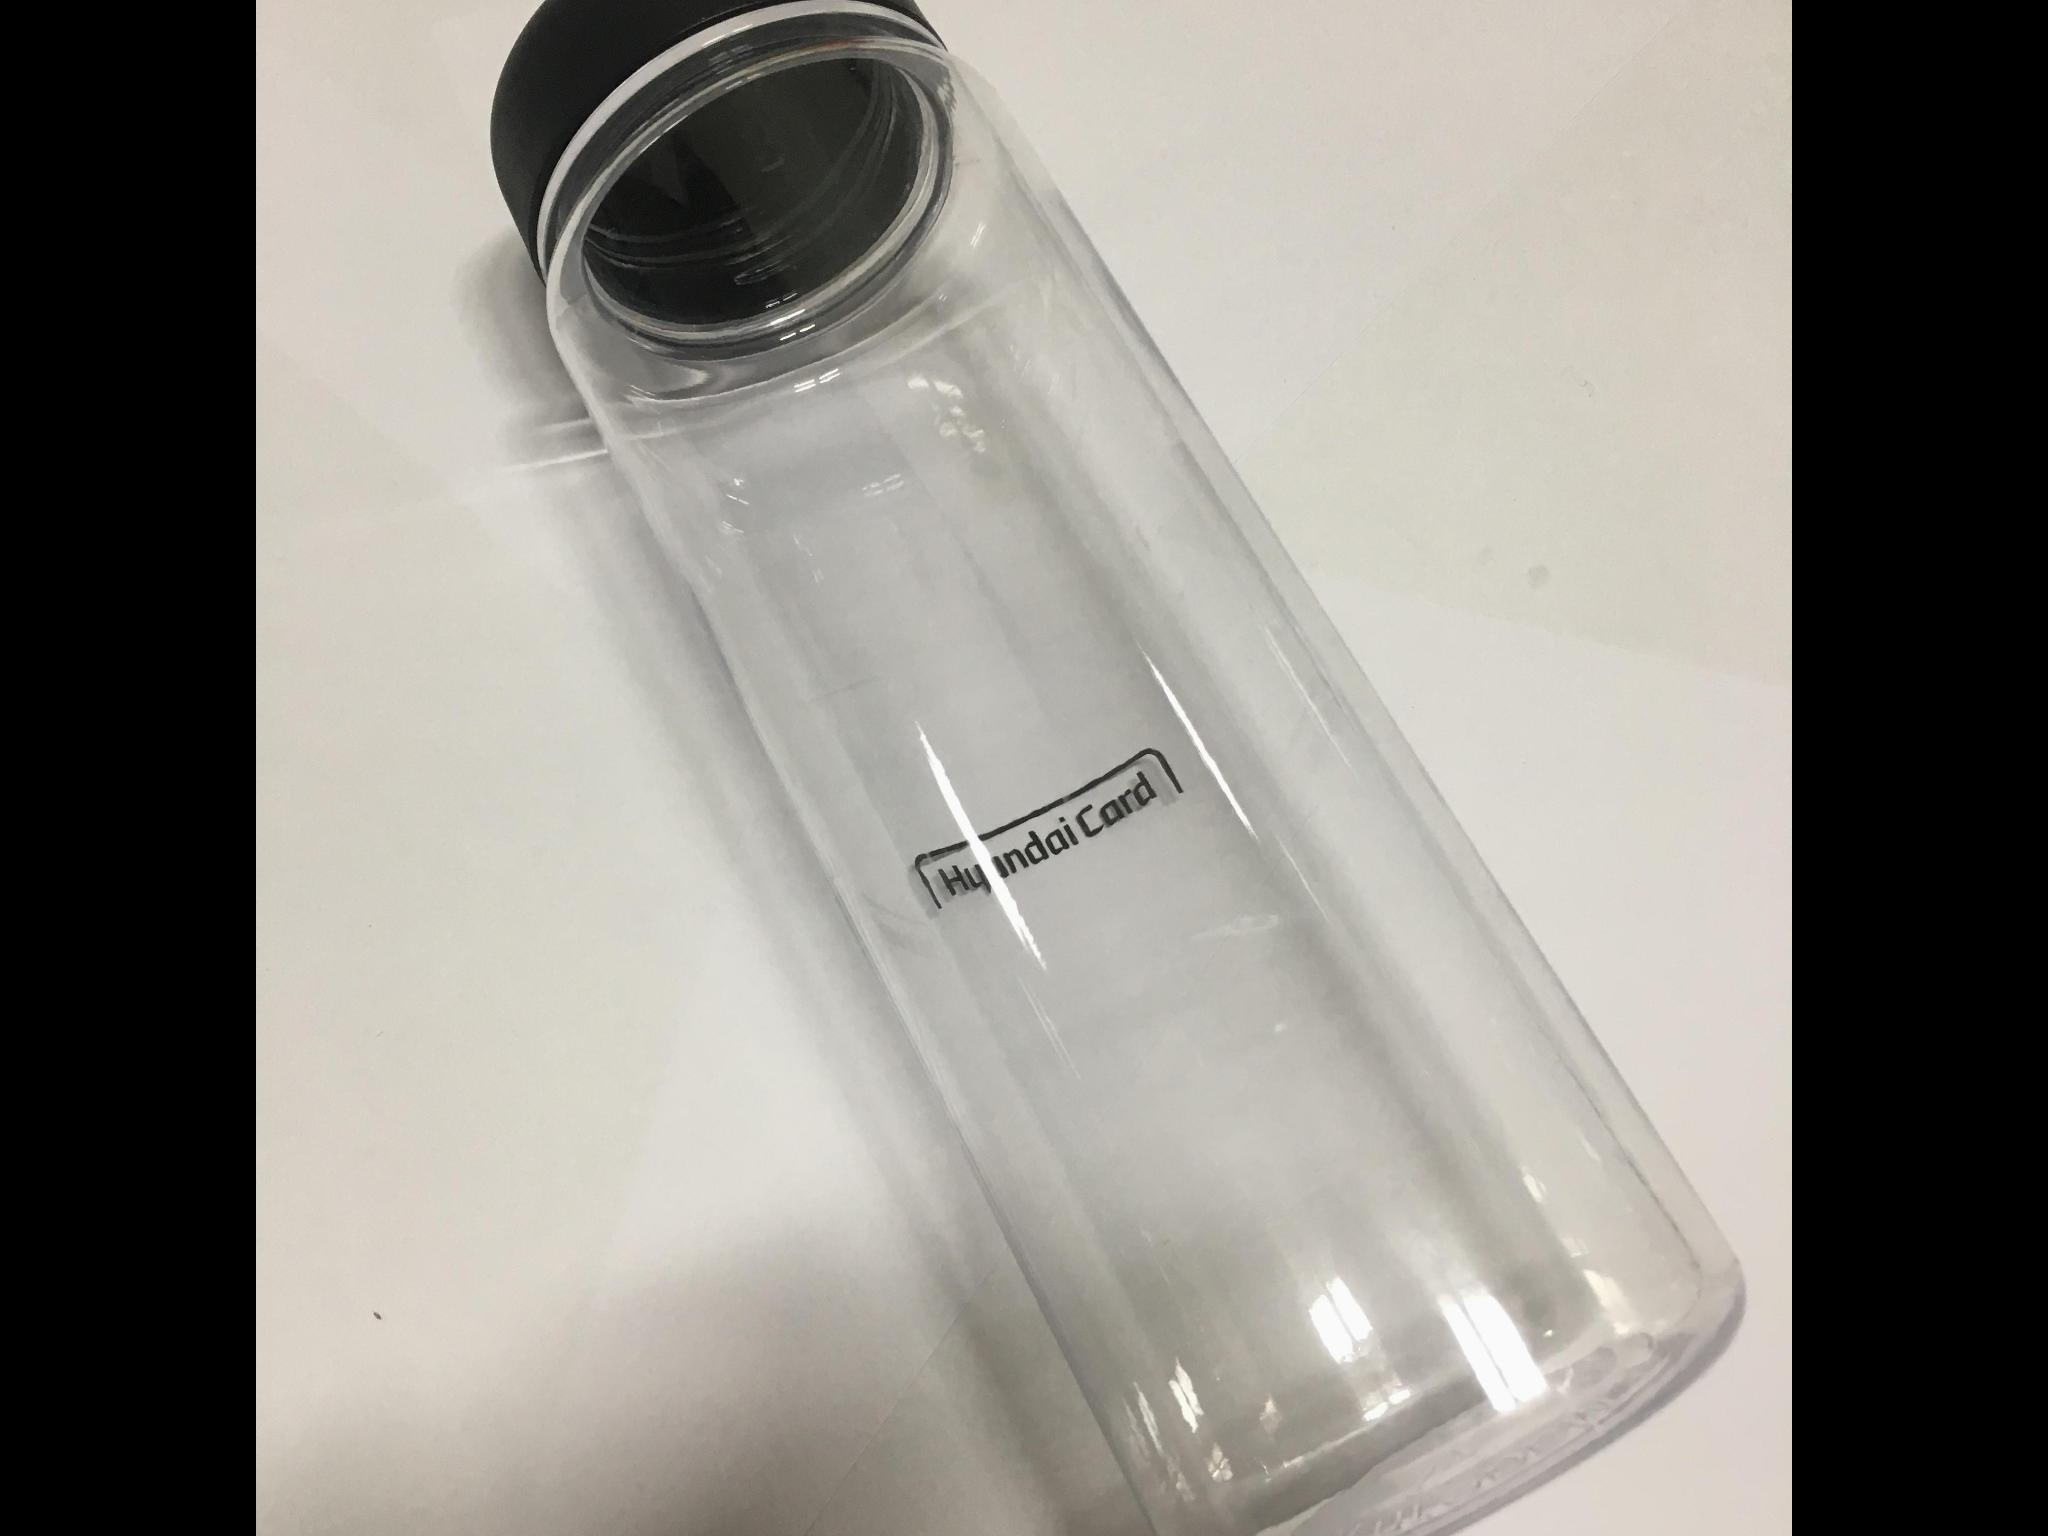bottle: (484, 0, 1742, 1536)
